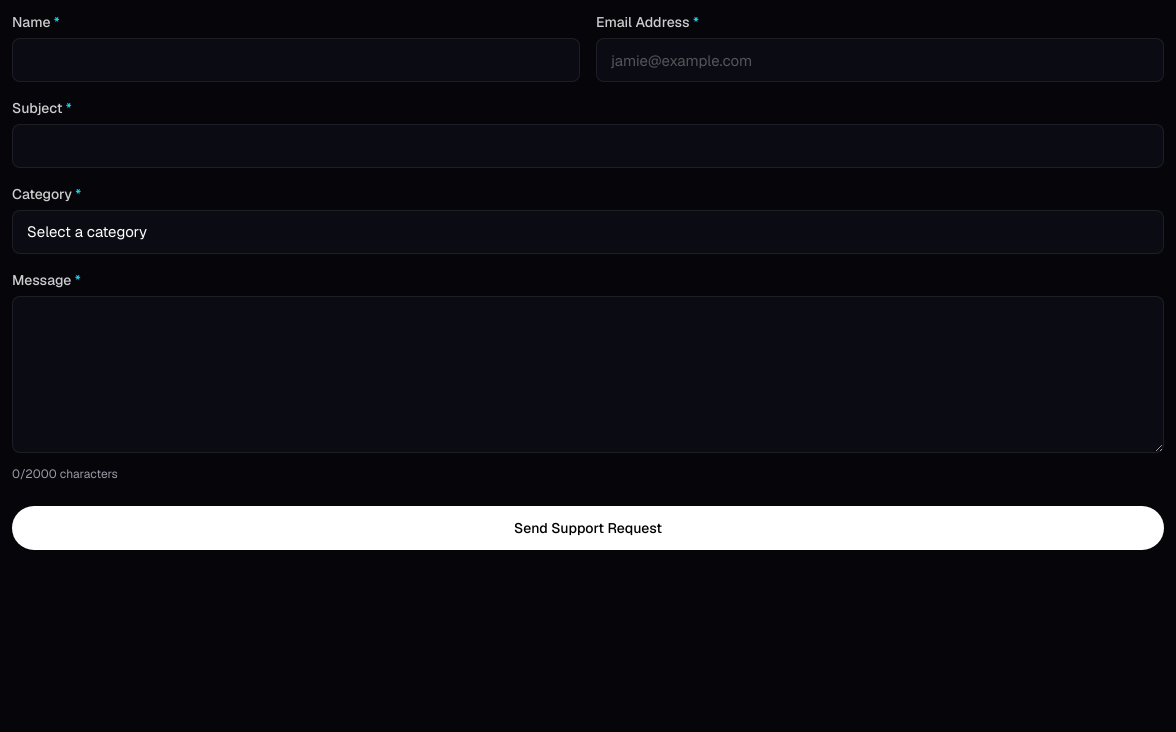
it: ContactSupportForm — validation › requires every field
The width and height of the screenshot is (1176, 732).
Click the button "Send Support Request": click(588, 528) left=12, top=506, right=1164, bottom=550
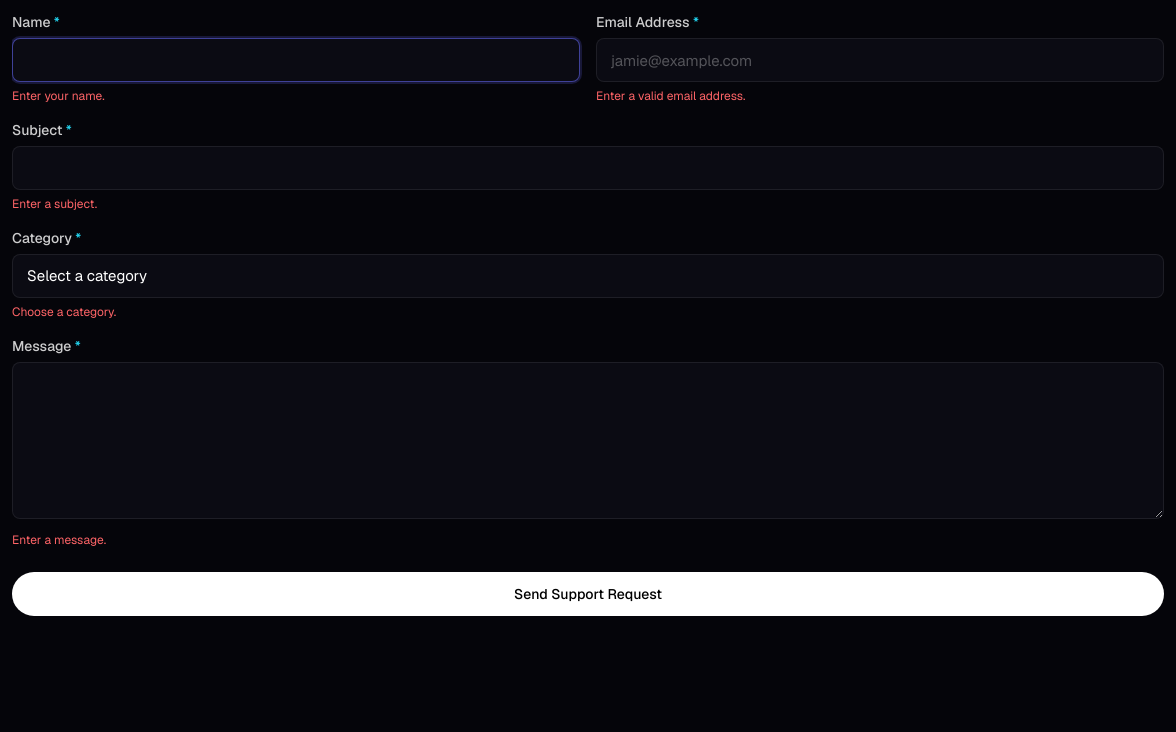
expect the text "Enter your name." is shown: met, box left=12, top=88, right=105, bottom=104
expect the text "Enter a valid email address." is shown: met, box left=596, top=88, right=746, bottom=104
expect the text "Enter a subject." is shown: met, box left=12, top=196, right=97, bottom=212
